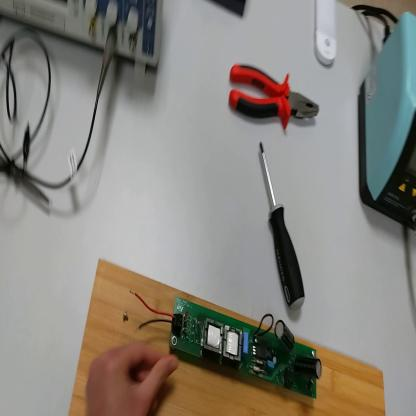hand: (87, 342, 178, 415)
high voltage board: (132, 286, 325, 402)
oscilloscope: (2, 1, 166, 75)
oscilloscope probe tip: (2, 156, 52, 207)
pliers: (227, 63, 321, 125)
screwdriver-: (261, 140, 307, 313)
socket: (205, 1, 247, 19)
welder station: (361, 12, 416, 231)
working area: (68, 254, 387, 416)
